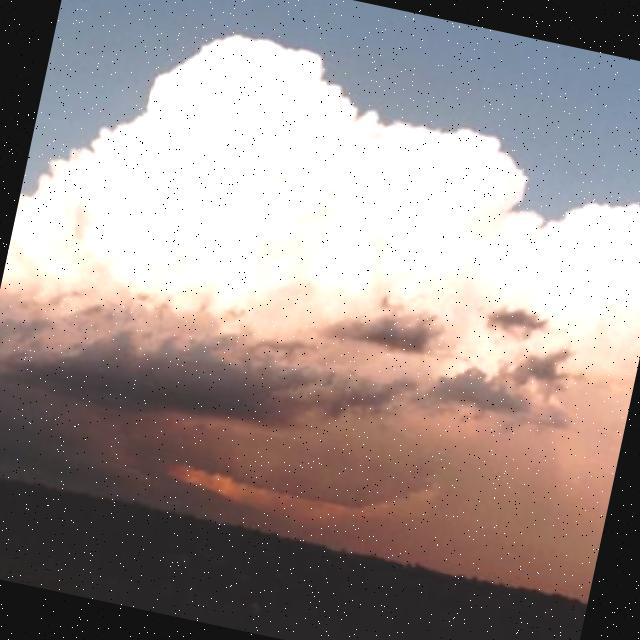Cb: (1, 22, 640, 520)
